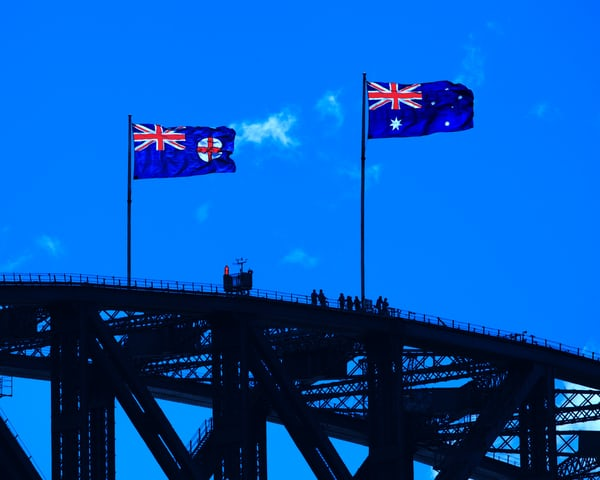Flag: (365, 80, 476, 138), (130, 123, 237, 178)
